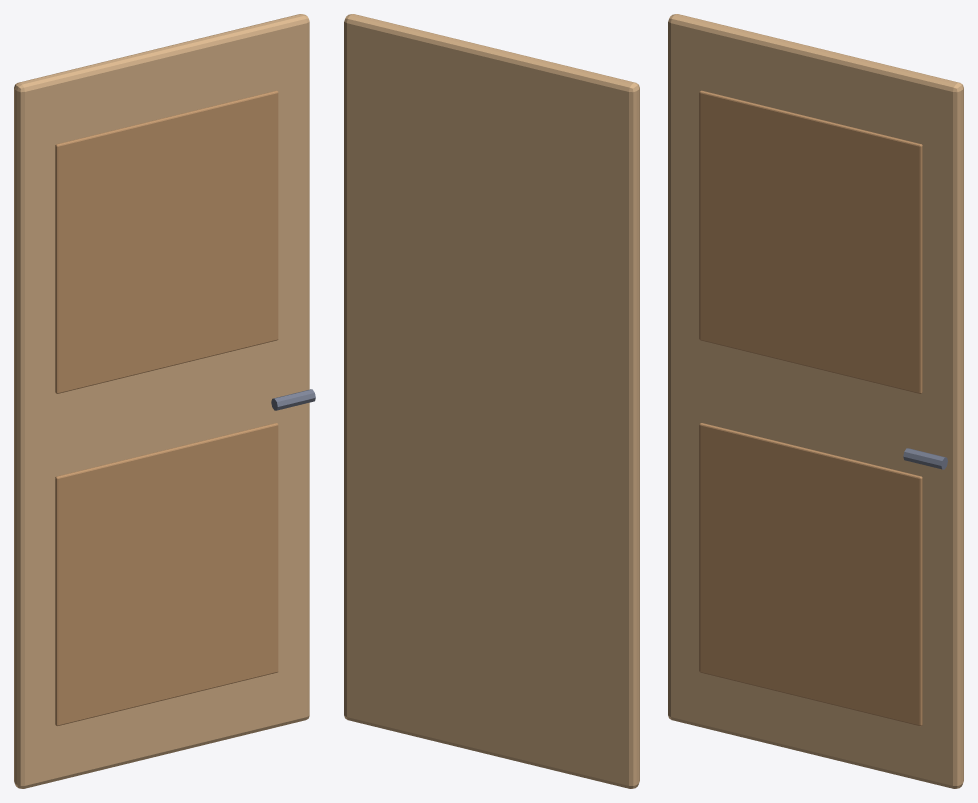
Rendered from door_leaf.glb.
3 renders of one model, left to right at view 1: azimuth 30°, elevation 25°; view 2: azimuth 150°, elevation 25°; view 3: azimuth 330°, elevation 25°, orthographic.
Parts seen in each view (by area): view 1: door_leaf_Mesh; view 2: door_leaf_Mesh; view 3: door_leaf_Mesh.
Boxes of the visible parts, x1,y1,x2,y2 form: door_leaf_Mesh: (14,14,315,788); door_leaf_Mesh: (344,14,639,788); door_leaf_Mesh: (668,14,963,788).
Bounding box in the file's own units: 0.92 × 2.12 × 0.1005.
